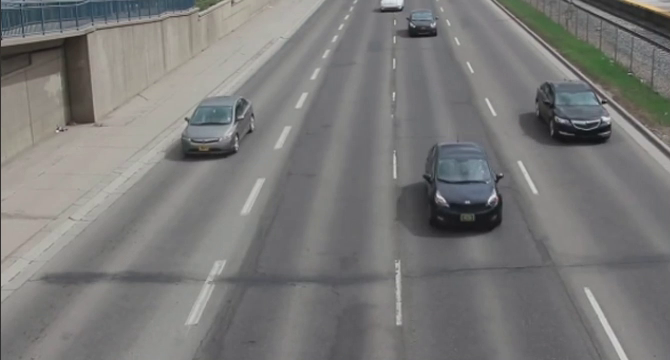car: (421, 140, 508, 237), (179, 91, 259, 158), (535, 75, 615, 142), (404, 8, 443, 45)
